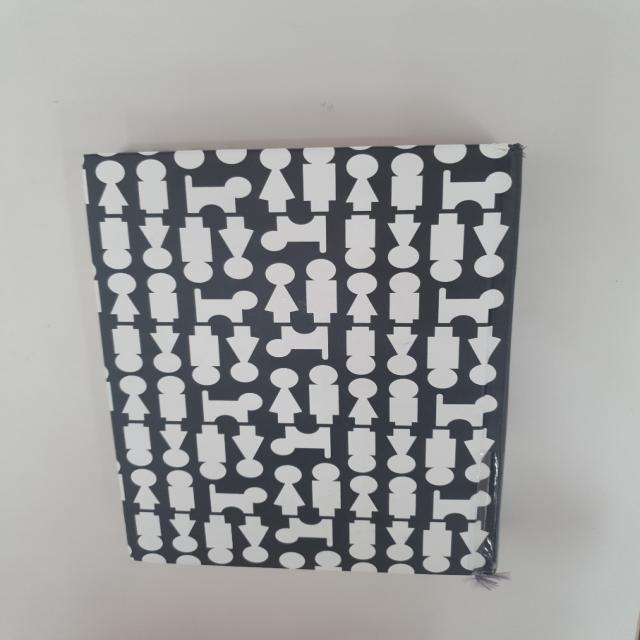Ripped: (490, 139, 531, 160)
